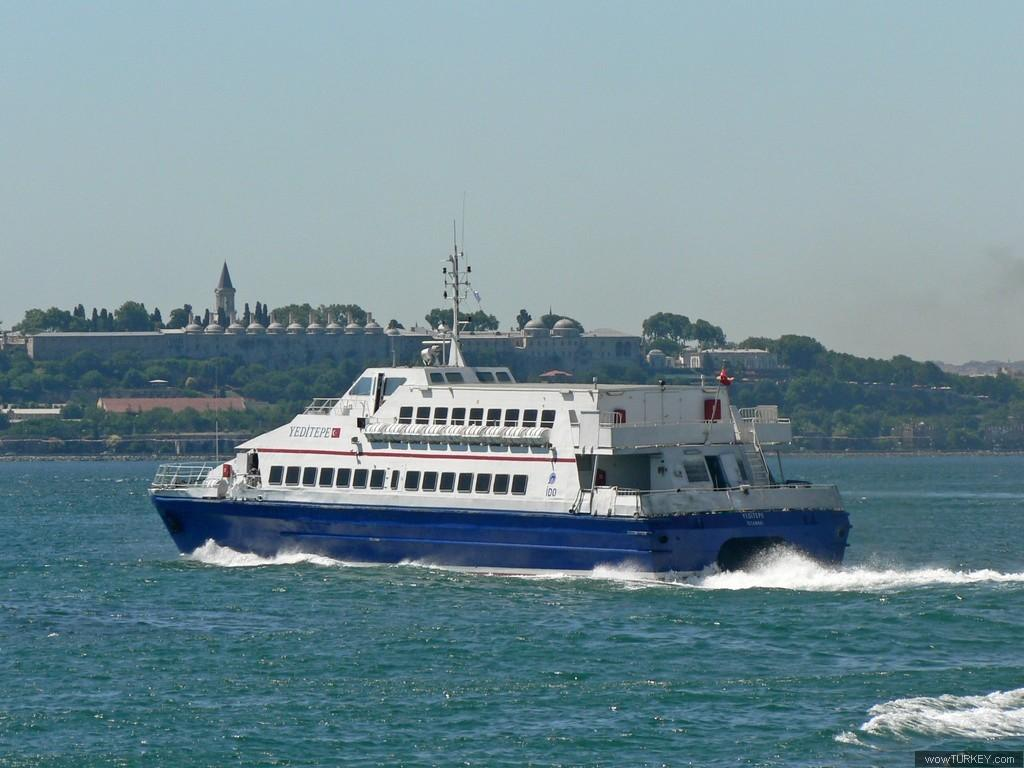PassengerShip: (142, 213, 858, 582)
